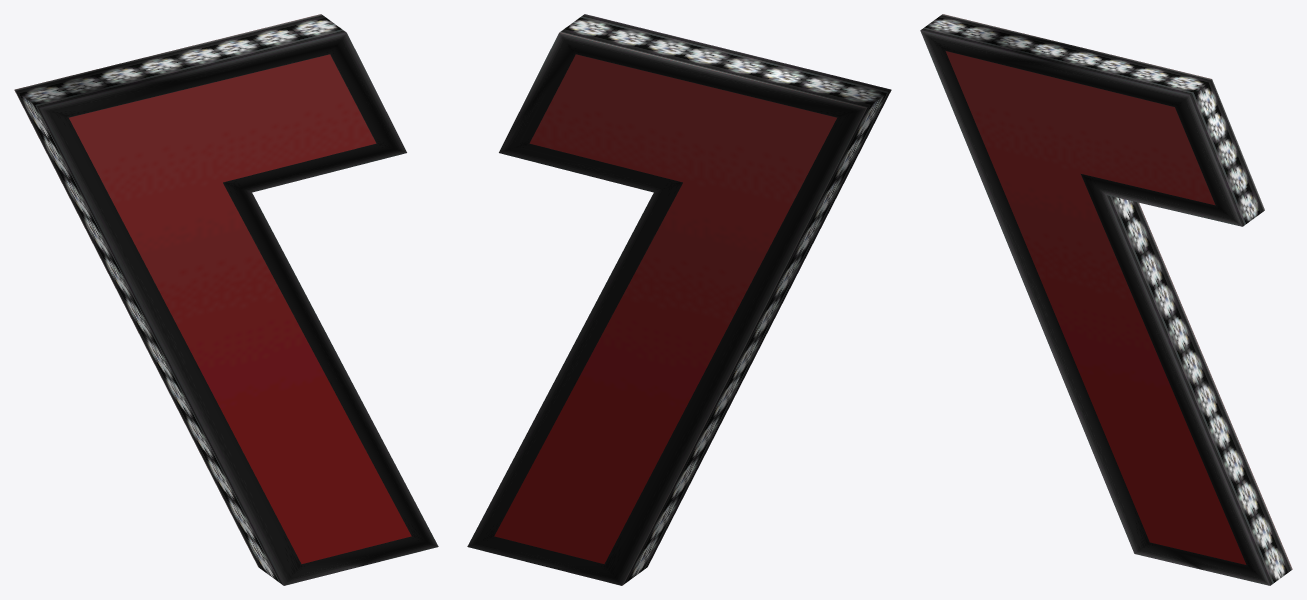
The model's file is ghmicon.ico.obj.
3 renders of one model, left to right at view 1: azimuth 30°, elevation 25°; view 2: azimuth 150°, elevation 25°; view 3: azimuth 330°, elevation 25°, orthographic. The views are drawn at different scales.
Bounding box in the file's own units: 2.88 × 3.71 × 0.3213.
1 material, 1 textured.
